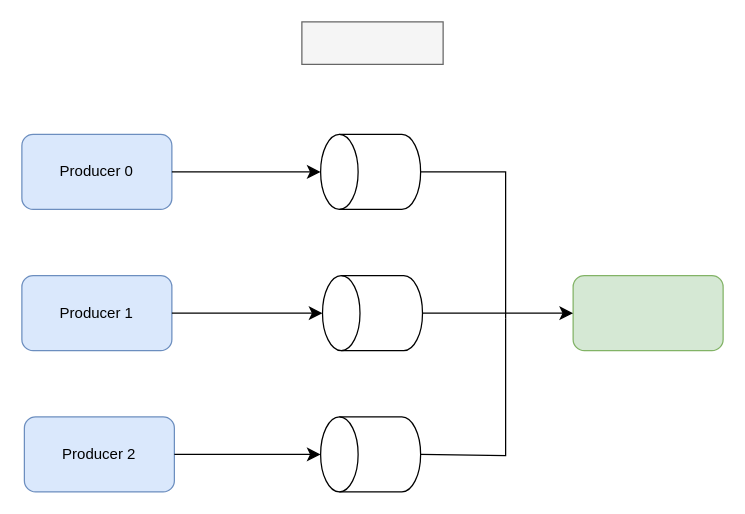
The diagram is 745 pixels wide and 514 high, and some of its shapes have lost their labels. The shapes that lost their labels are listed below. From the top down, each one's centre as x and y in pixels, then its label:
At (372,42): "Fan-in".
At (647,312): "Consumer 0".
